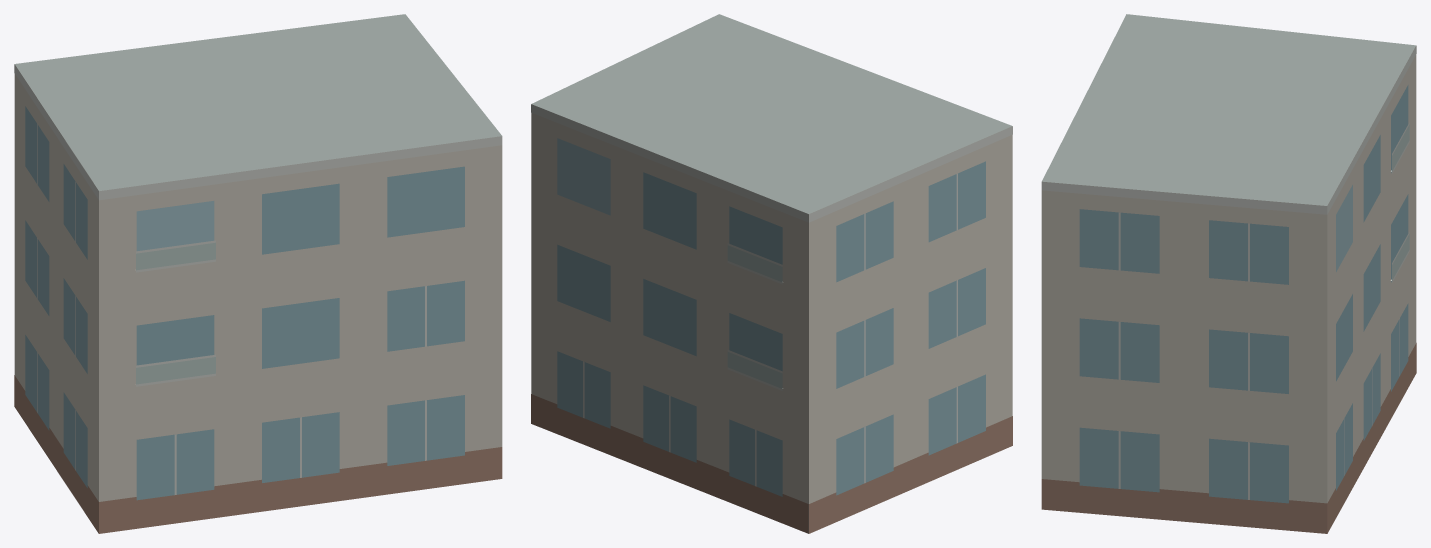
Rendered from survey-upis-32903129.glb.
3 renders of one model, left to right at view 1: azimuth 30°, elevation 25°; view 2: azimuth 150°, elevation 25°; view 3: azimuth 270°, elevation 25°, orthographic. The views are drawn at different scales.
Parts seen in each view (by area): view 1: survey-upis-32903129.tmp; view 2: survey-upis-32903129.tmp; view 3: survey-upis-32903129.tmp.
Part boxes in pixels (<box>): survey-upis-32903129.tmp: <box>14,14,502,533</box>; survey-upis-32903129.tmp: <box>531,14,1012,533</box>; survey-upis-32903129.tmp: <box>1041,14,1416,533</box>.
Bounding box in the file's own units: 11.5 × 9.15 × 9.49.
